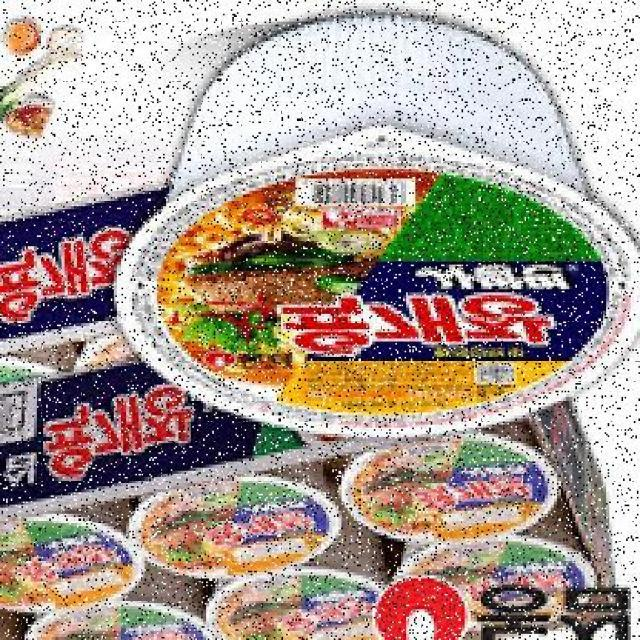Miscellaneous: (107, 15, 640, 433), (333, 432, 570, 554), (130, 454, 350, 584), (378, 535, 597, 640), (0, 480, 148, 616), (209, 551, 400, 640), (22, 578, 222, 640)
